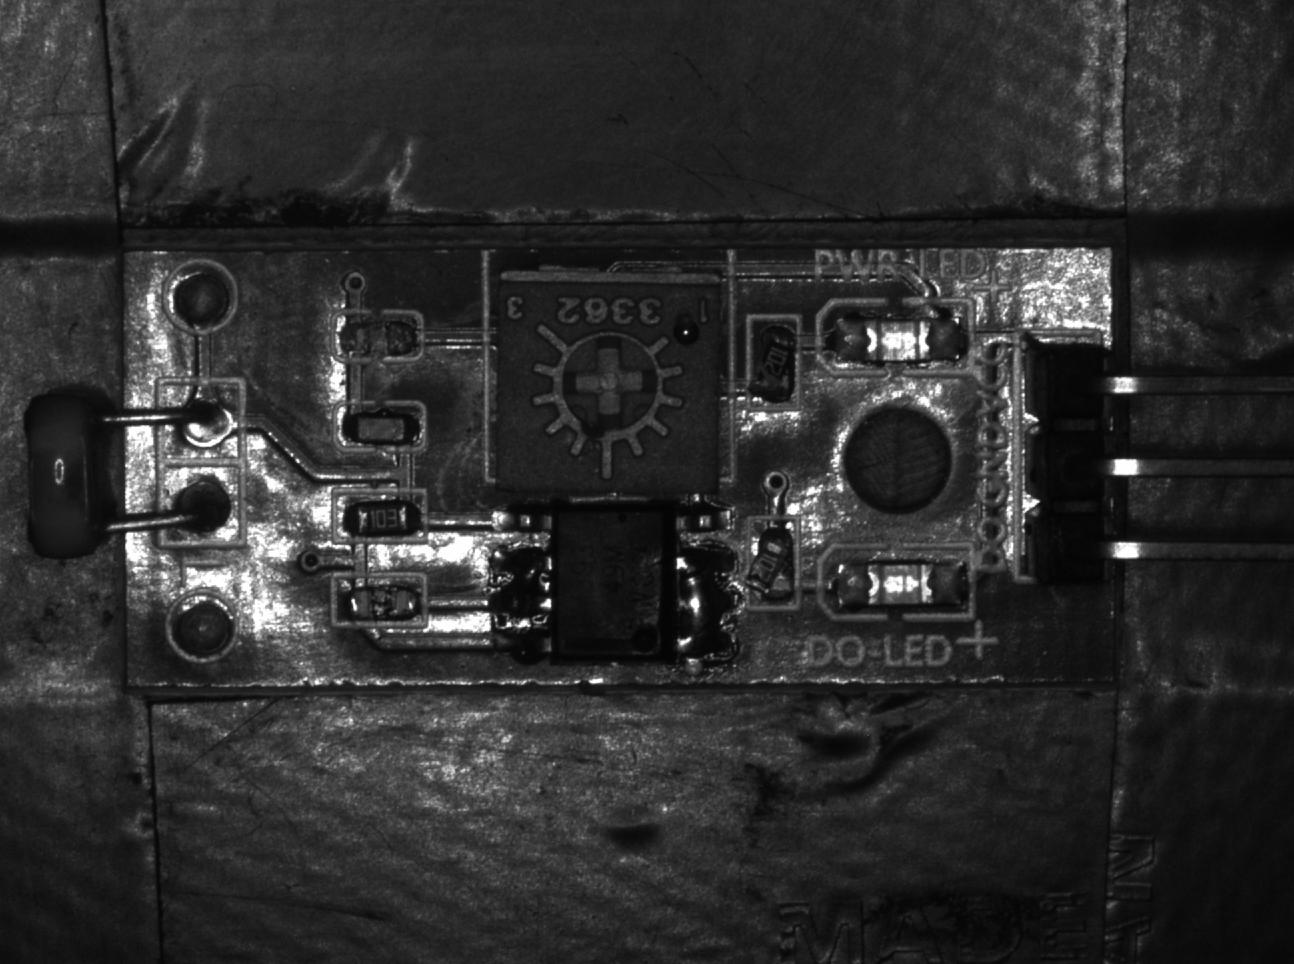bridge: (677, 544, 738, 668), (489, 541, 551, 621)
lifted: (748, 315, 800, 413), (746, 516, 798, 610)
miss: (334, 574, 428, 627), (331, 311, 423, 363)
ok: (333, 400, 429, 452), (332, 490, 424, 541)
